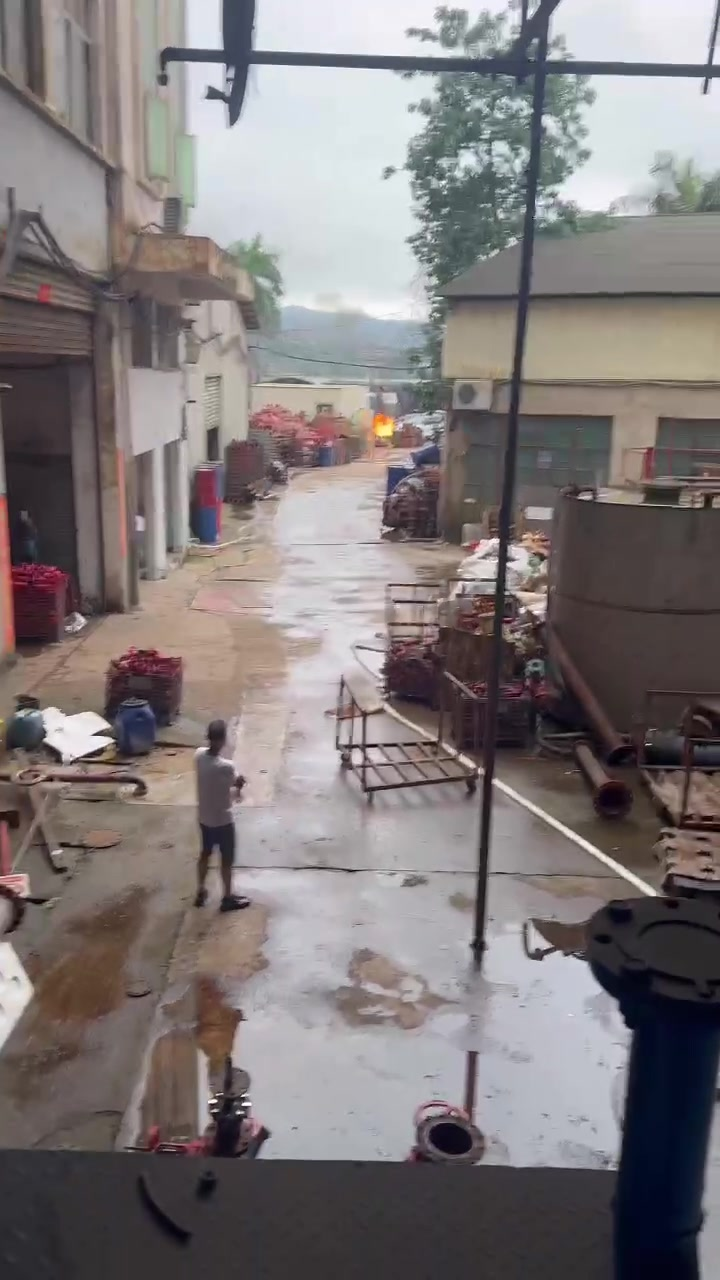fire: (373, 416, 393, 437)
